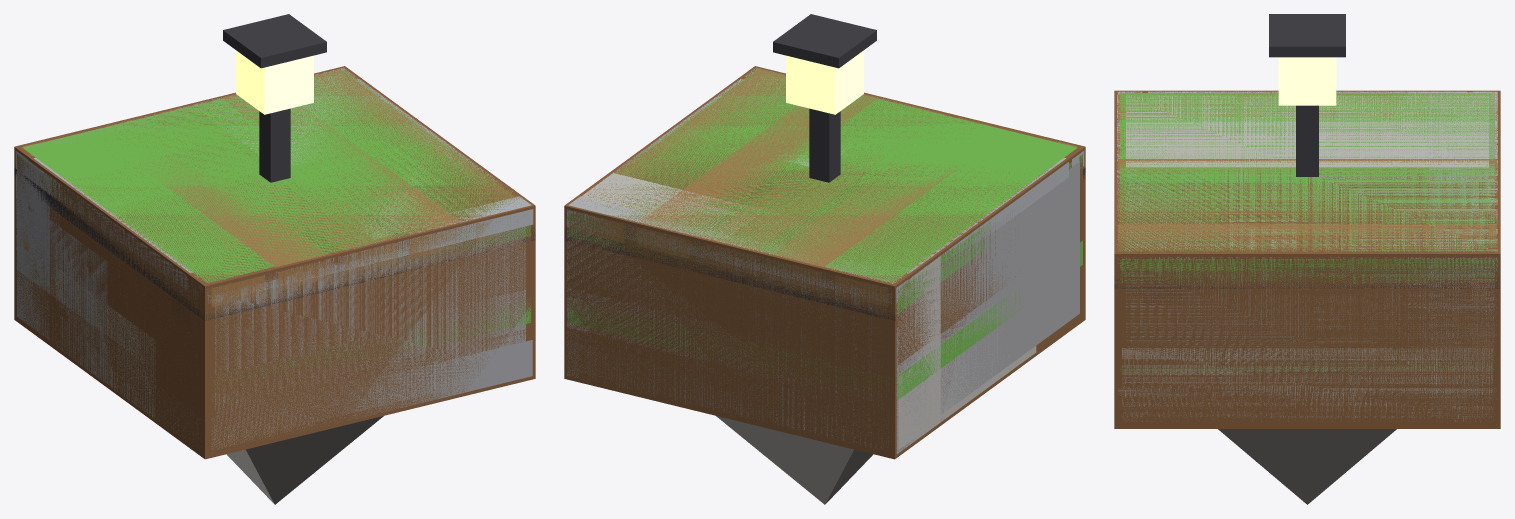
The model's file is kit.glb.
The picture shows the model from 3 angles, left to right: view 1: azimuth 30°, elevation 25°; view 2: azimuth 150°, elevation 25°; view 3: azimuth 270°, elevation 25°; orthographic projection.
Visible parts, largest first — view 1: dirt_block-col, floating_tile-col, grass_block-col, stone_block-col, bridge-col, stone_stairs-col, floating_tile_dirt-col, metal_floor-col, lantern-col, half_slab-col, stone_wall-col, stone_tiles-col (+1 smaller); view 2: dirt_block-col, floating_tile-col, grass_block-col, bridge-col, stone_block-col, floating_tile_dirt-col, stone_stairs-col, half_slab-col, lantern-col, metal_floor-col, stone_wall-col, stone_half-col (+1 smaller); view 3: dirt_block-col, floating_tile-col, grass_block-col, stone_tiles-col, bridge-col, stone_block-col, floating_tile_dirt-col, stone_half-col, lantern-col, ramp-col, stone_wall-col, half_slab-col (+2 smaller).
Boxes of the visible parts, left/top/right/bottom form: dirt_block-col: left=14, top=66, right=535, bottom=459; floating_tile-col: left=17, top=69, right=530, bottom=288; grass_block-col: left=14, top=189, right=535, bottom=458; stone_block-col: left=46, top=74, right=525, bottom=445; bridge-col: left=23, top=69, right=518, bottom=326; stone_stairs-col: left=16, top=69, right=532, bottom=449; floating_tile_dirt-col: left=17, top=154, right=530, bottom=504; metal_floor-col: left=14, top=67, right=535, bottom=320; lantern-col: left=223, top=14, right=326, bottom=182; half_slab-col: left=14, top=253, right=535, bottom=457; stone_wall-col: left=17, top=69, right=362, bottom=339; stone_tiles-col: left=127, top=74, right=467, bottom=239; dirt_block-col: left=564, top=66, right=1085, bottom=458; floating_tile-col: left=569, top=69, right=1082, bottom=312; grass_block-col: left=564, top=181, right=1085, bottom=459; bridge-col: left=570, top=69, right=1076, bottom=309; stone_block-col: left=574, top=76, right=1079, bottom=437; floating_tile_dirt-col: left=569, top=155, right=1082, bottom=504; stone_stairs-col: left=567, top=173, right=1036, bottom=454; half_slab-col: left=564, top=240, right=1085, bottom=458; lantern-col: left=773, top=14, right=876, bottom=182; metal_floor-col: left=564, top=68, right=1085, bottom=320; stone_wall-col: left=570, top=182, right=929, bottom=450; stone_half-col: left=619, top=349, right=972, bottom=449; dirt_block-col: left=1114, top=90, right=1500, bottom=428; floating_tile-col: left=1120, top=93, right=1494, bottom=283; grass_block-col: left=1114, top=289, right=1500, bottom=428; stone_tiles-col: left=1126, top=95, right=1488, bottom=248; bridge-col: left=1118, top=93, right=1496, bottom=306; stone_block-col: left=1126, top=97, right=1488, bottom=418; floating_tile_dirt-col: left=1120, top=259, right=1494, bottom=504; stone_half-col: left=1122, top=348, right=1492, bottom=421; lantern-col: left=1269, top=14, right=1345, bottom=176; ramp-col: left=1121, top=255, right=1500, bottom=428; stone_wall-col: left=1429, top=93, right=1494, bottom=409; half_slab-col: left=1114, top=346, right=1500, bottom=428.
Size of the model in its own units: 2 by 2.71 by 2.
